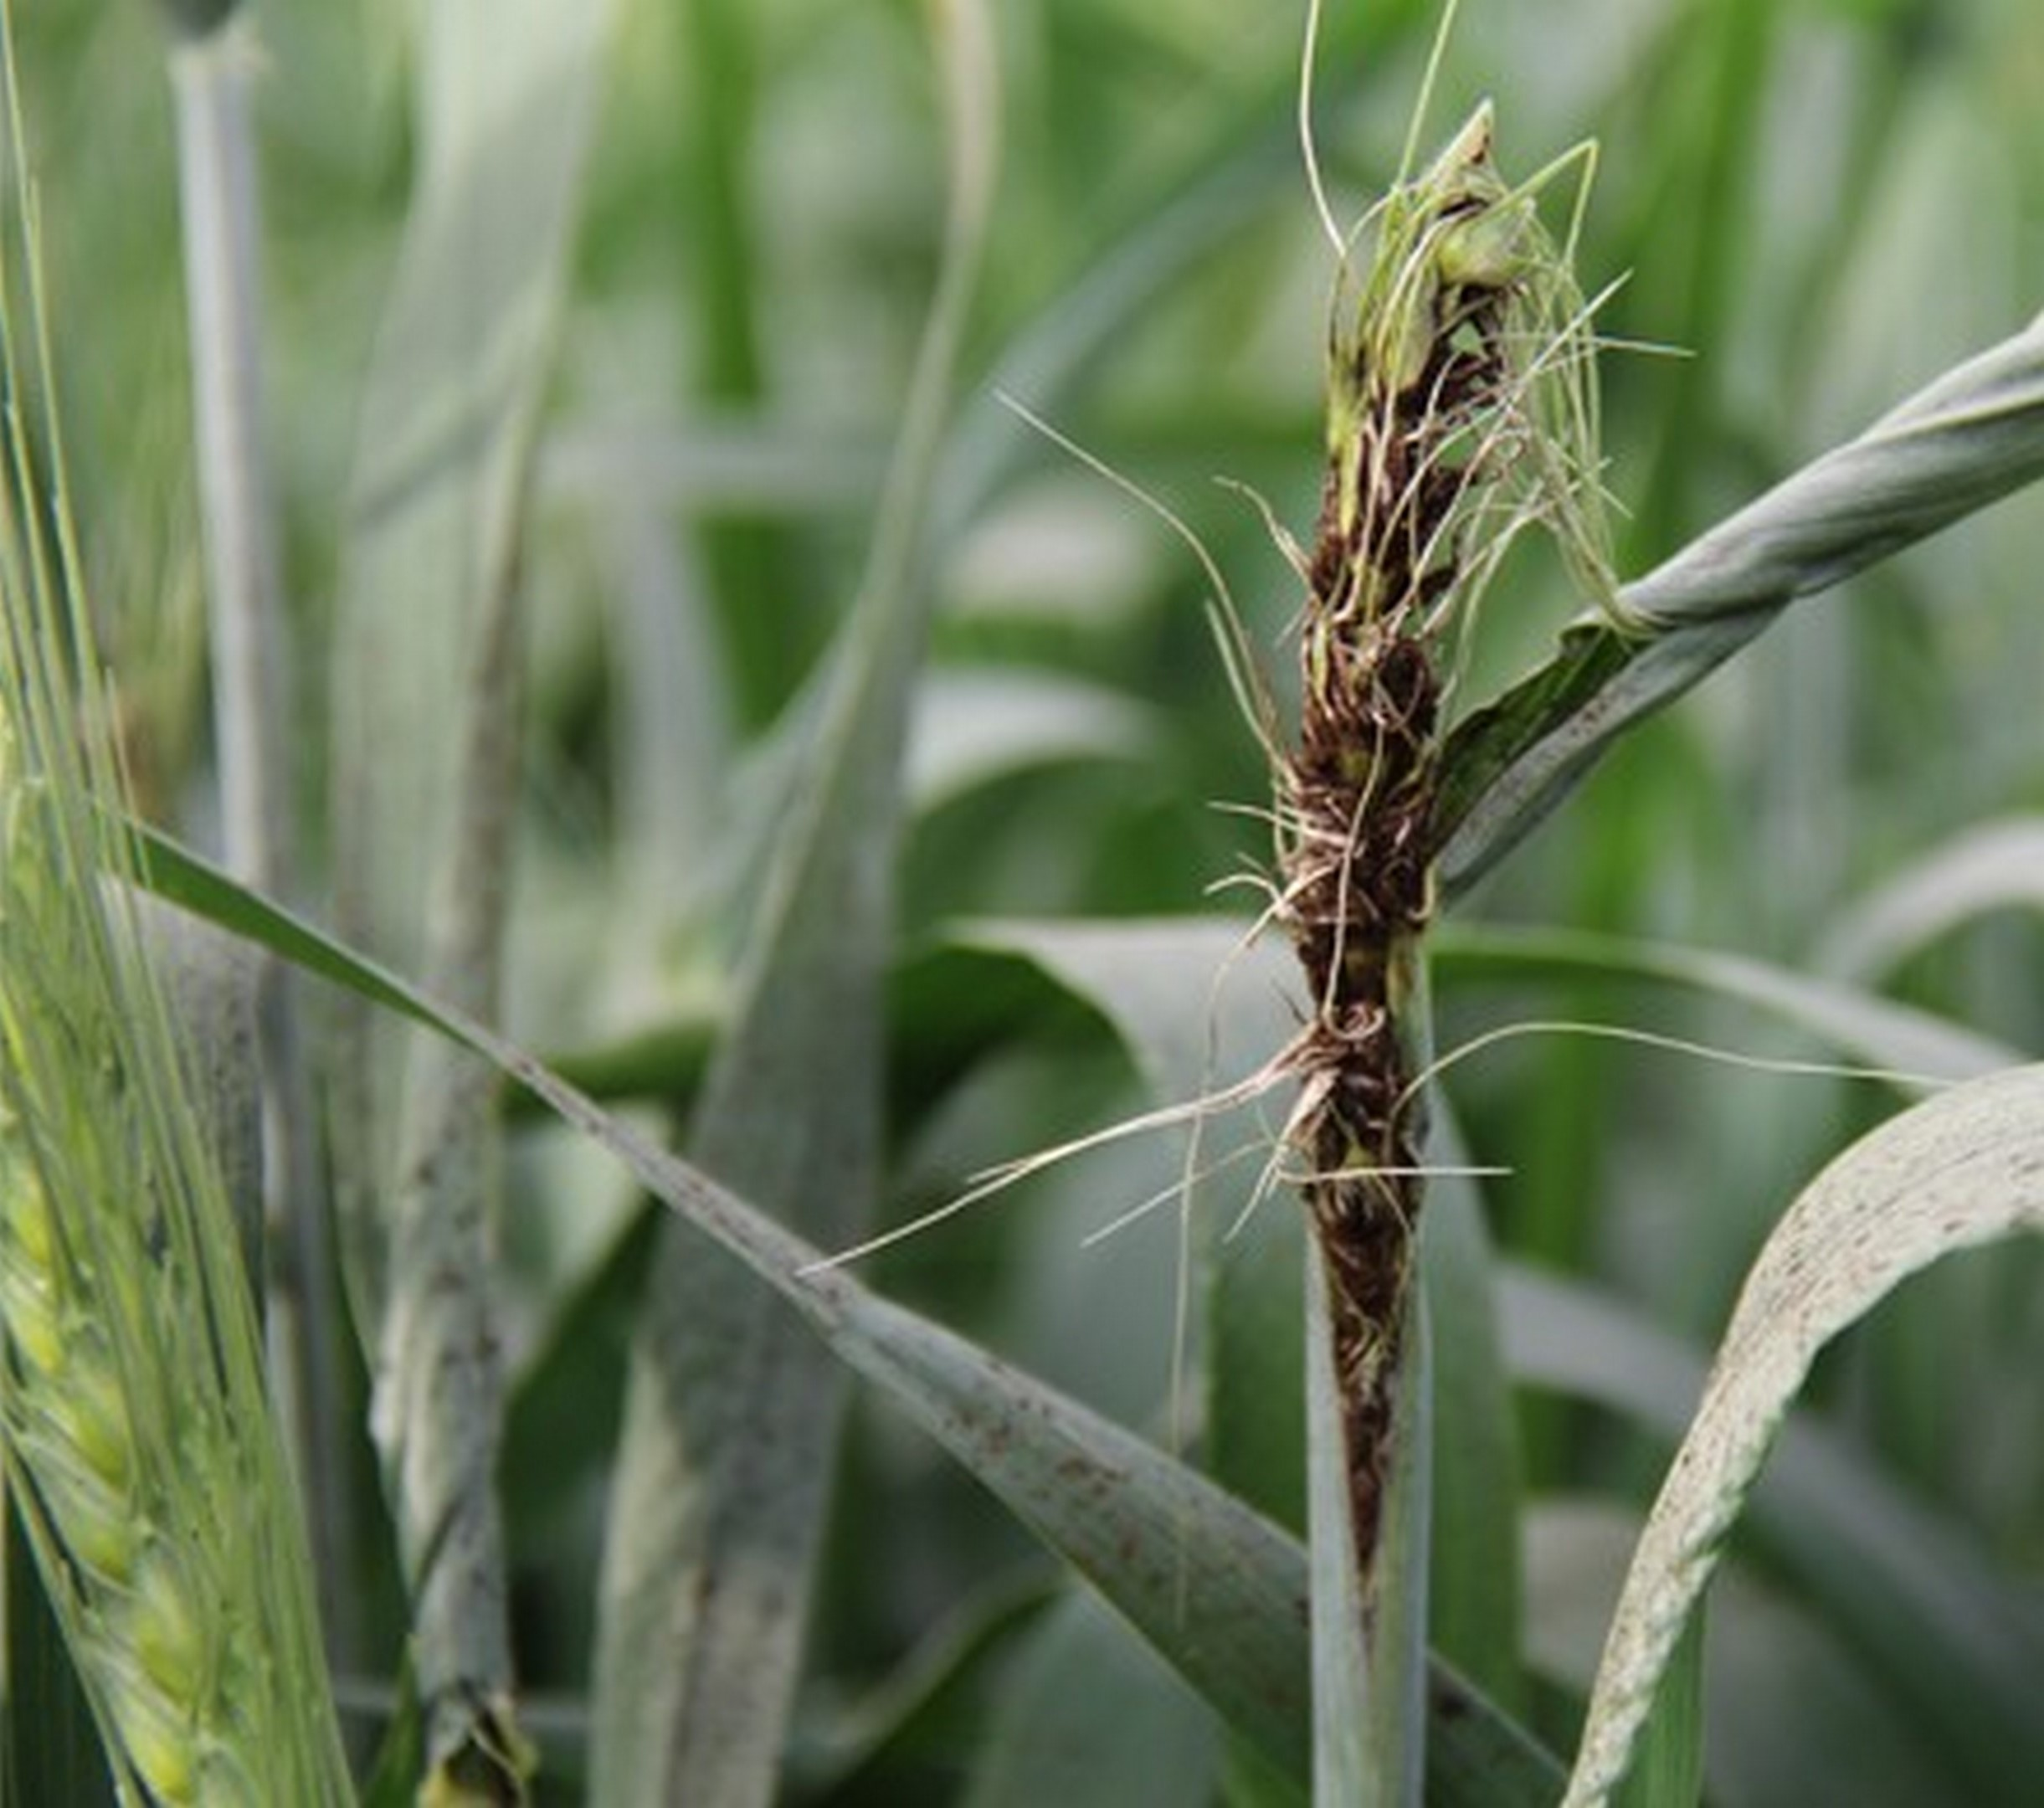Wheat Loose Smut: (1206, 188, 1578, 1346)
